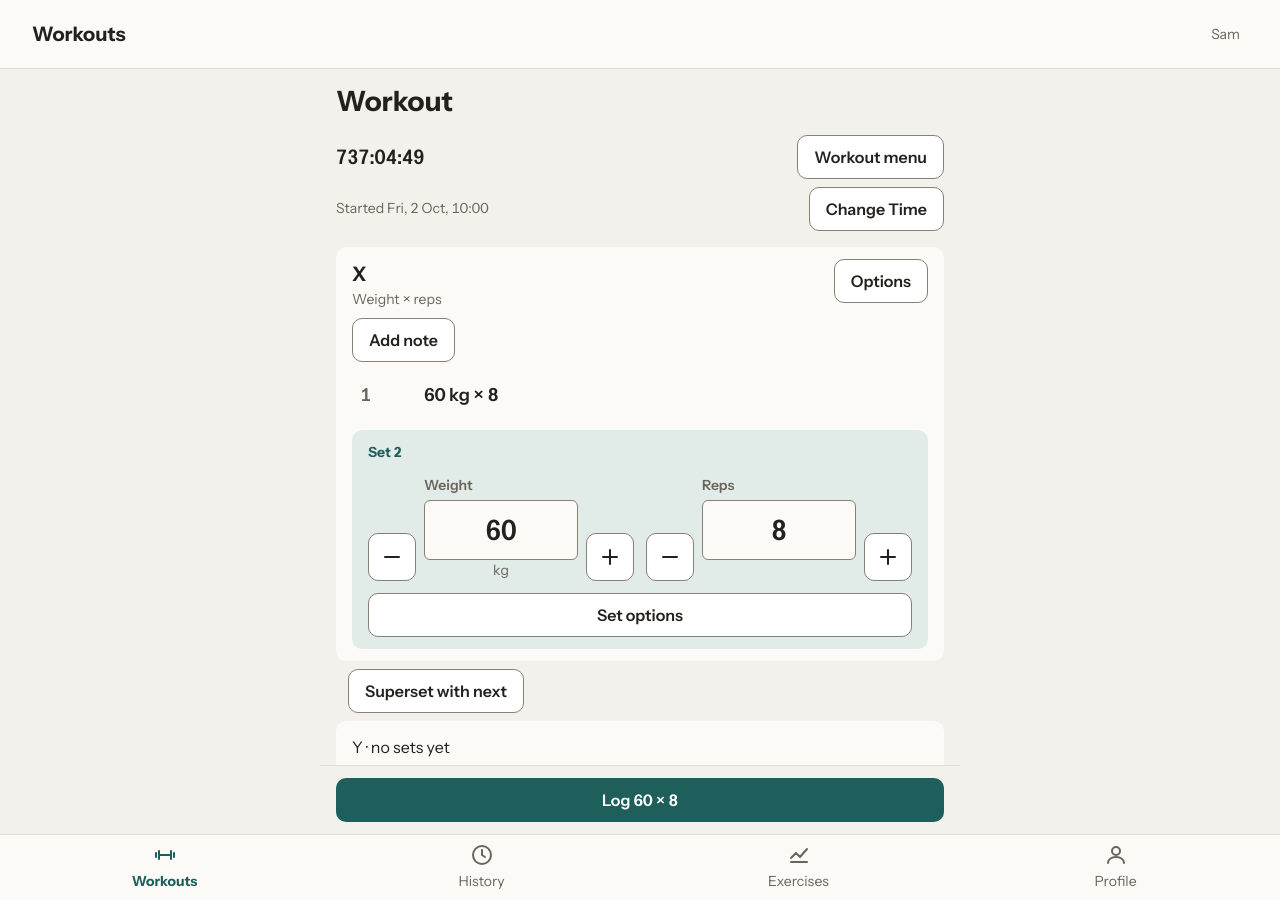
it: 10.3 AC36 — exercise notes are text › markup in a note renders as text and creates no element
Check: the heading "Workout" is shown, box [336, 84, 453, 118]
Click the button with aria-label "Add note for X" at x=403, y=340, box [352, 318, 455, 362]
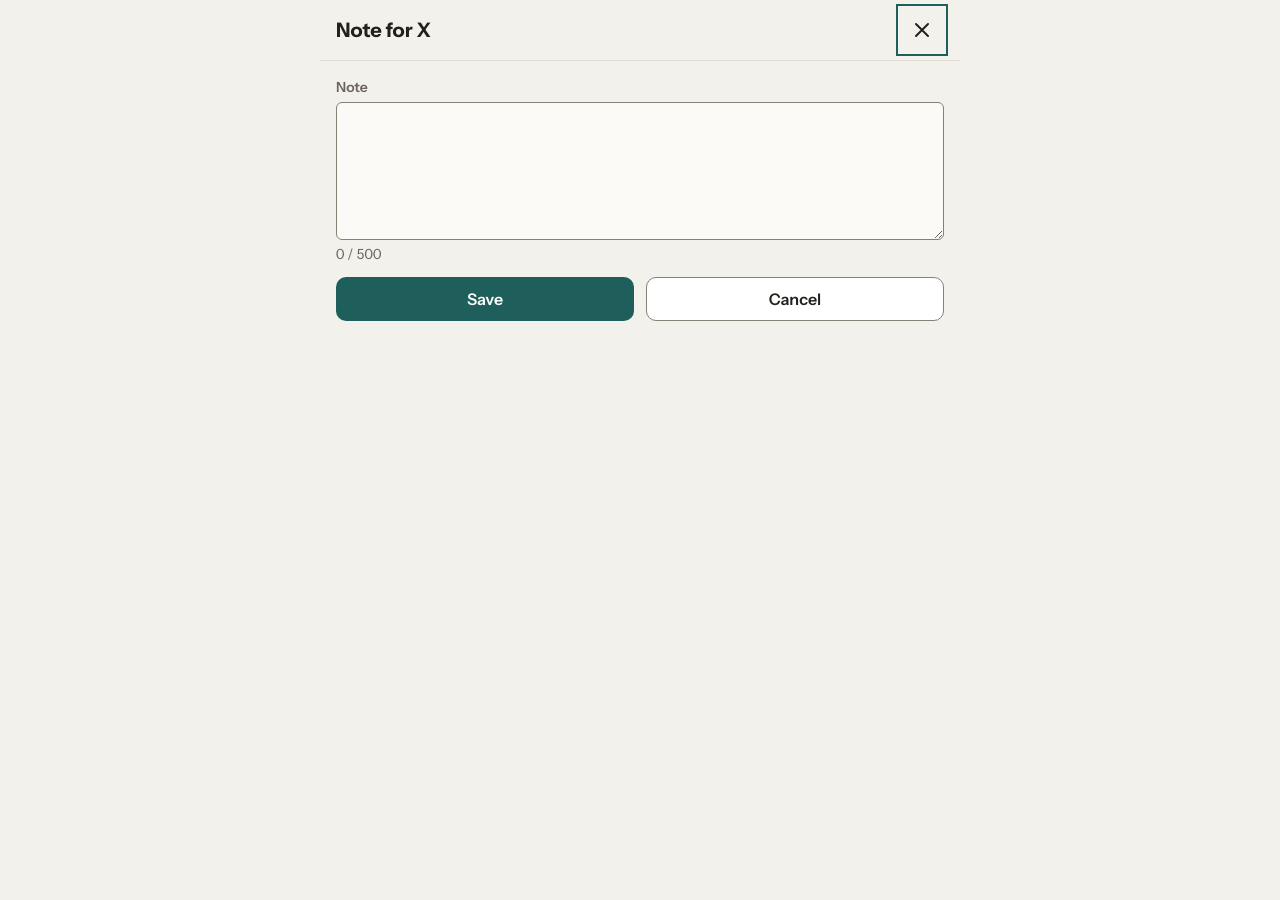
Click the text box labelled "Note" at x=640, y=171, box [336, 102, 944, 240]
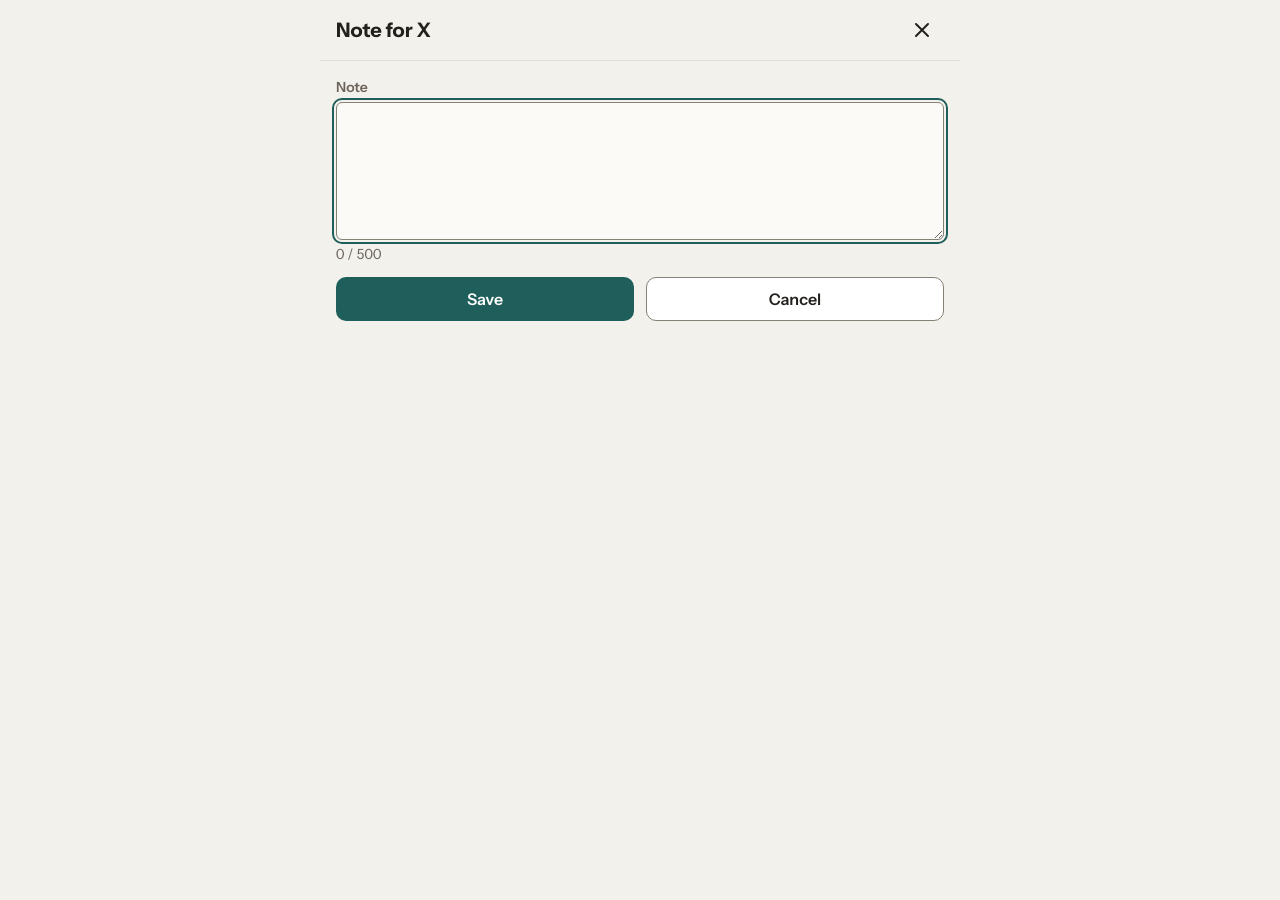
Type keys "<img src=x onerror=alert(1)>"
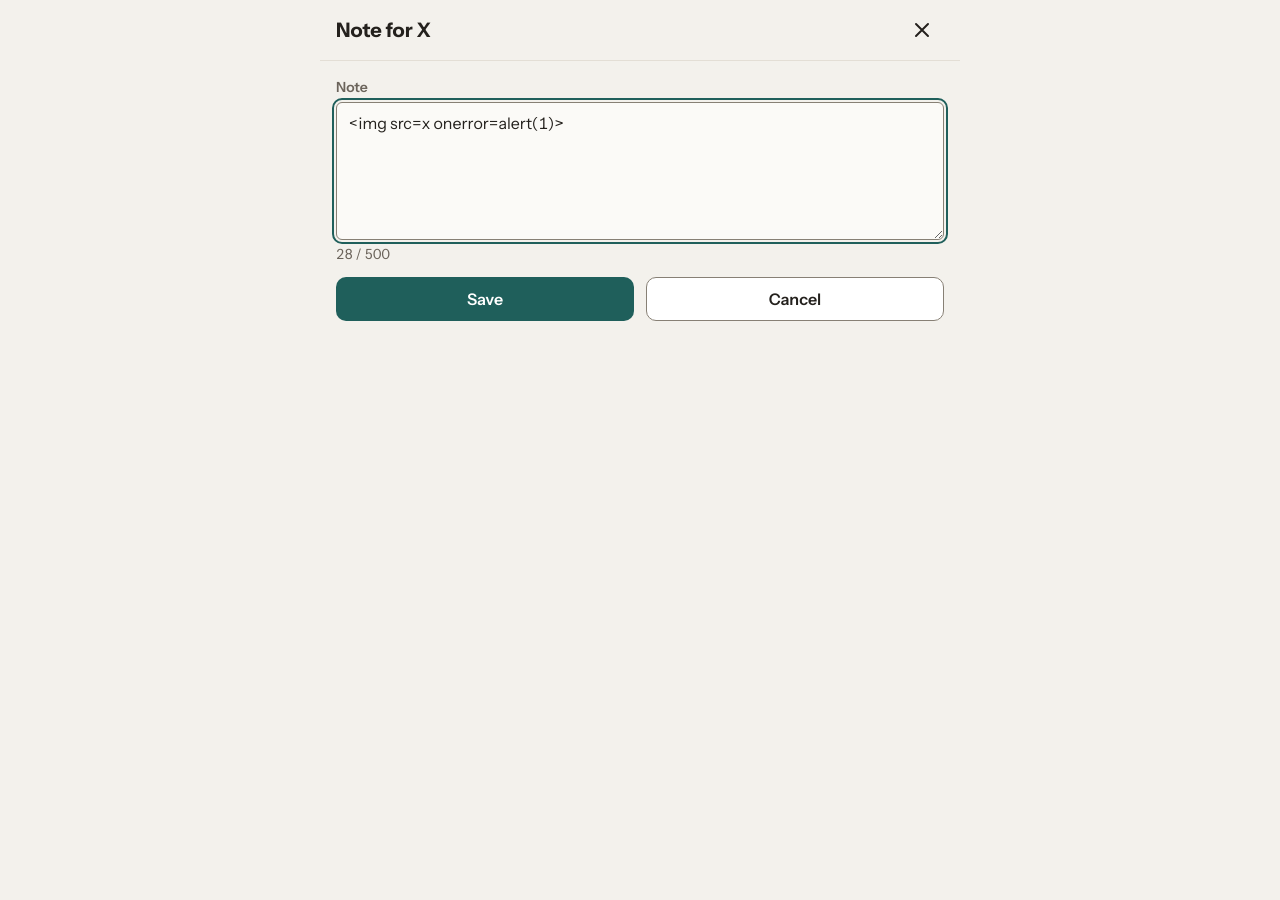
Click the button "Save" at x=485, y=299, box [336, 277, 634, 321]
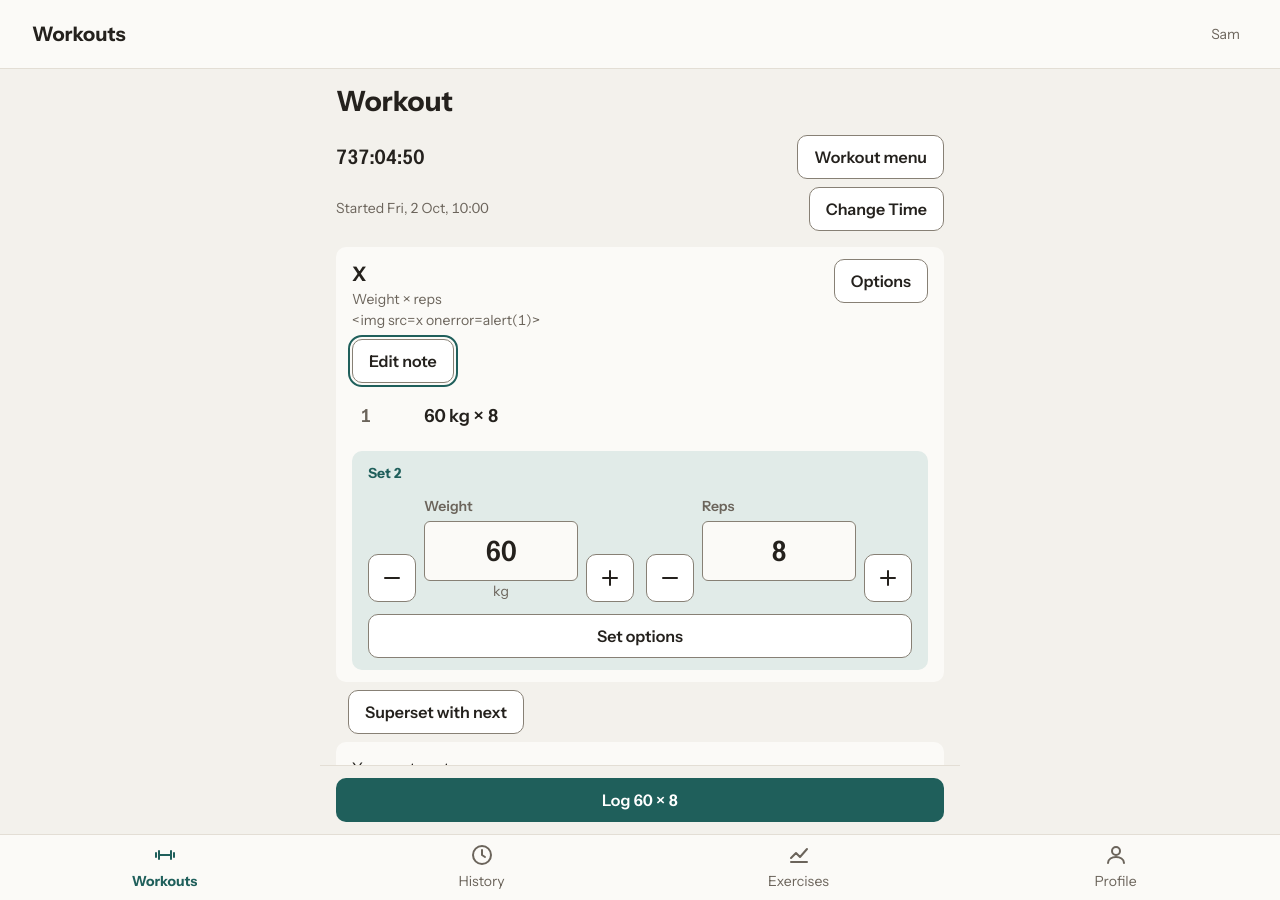
Check: the text "<img src=x onerror=alert(1)>" is shown, box [352, 310, 540, 331]
